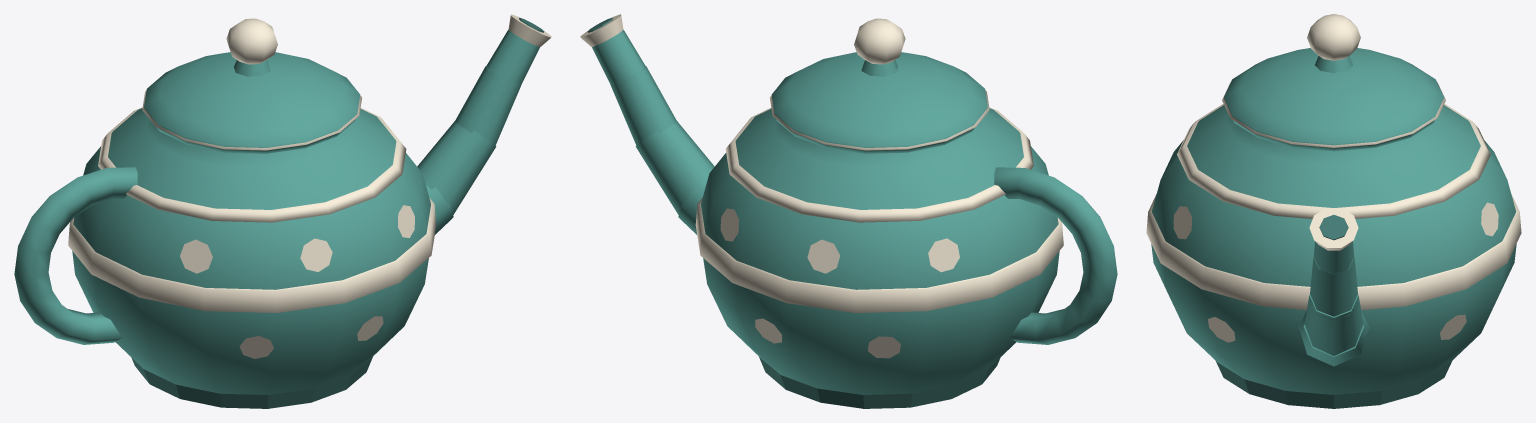
Rendered from tea-pot-v1.glb.
3 renders of one model, left to right at view 1: azimuth 30°, elevation 25°; view 2: azimuth 150°, elevation 25°; view 3: azimuth 270°, elevation 25°, orthographic.
Visible parts, largest first — view 1: body, lid, bellyBand, handle, shoulderBand, spout2, footRing, spout3, knob, spout4, lidRim, dot2_8 (+4 smaller); view 2: body, lid, bellyBand, handle, shoulderBand, spout2, footRing, spout3, knob, spout4, lidRim, dot2_5 (+5 smaller); view 3: body, lid, bellyBand, shoulderBand, footRing, spout2, spout3, knob, spoutLip, spout1, spout4, lidRim (+6 smaller).
Boxes of the visible parts, <box> form: body: <box>72,108,430,394</box>; lid: <box>144,52,360,153</box>; bellyBand: <box>68,198,436,312</box>; handle: <box>14,167,137,344</box>; shoulderBand: <box>98,107,406,222</box>; spout2: <box>417,121,496,214</box>; footRing: <box>131,357,372,408</box>; spout3: <box>455,66,521,145</box>; knob: <box>226,18,277,64</box>; spout4: <box>486,30,539,84</box>; lidRim: <box>142,90,361,150</box>; dot2_8: <box>180,239,212,273</box>; body: <box>701,108,1059,394</box>; lid: <box>771,52,987,153</box>; bellyBand: <box>695,198,1063,312</box>; handle: <box>994,167,1117,344</box>; shoulderBand: <box>725,107,1033,222</box>; spout2: <box>635,121,714,214</box>; footRing: <box>759,357,1000,408</box>; spout3: <box>610,66,676,145</box>; knob: <box>854,18,905,64</box>; spout4: <box>592,30,645,84</box>; lidRim: <box>770,90,989,150</box>; dot2_5: <box>807,239,840,273</box>; body: <box>1151,105,1516,394</box>; lid: <box>1224,48,1443,151</box>; bellyBand: <box>1146,194,1521,309</box>; shoulderBand: <box>1177,104,1490,218</box>; footRing: <box>1215,360,1452,408</box>; spout2: <box>1304,294,1363,355</box>; spout3: <box>1310,257,1357,320</box>; knob: <box>1307,14,1360,60</box>; spoutLip: <box>1309,208,1358,250</box>; spout1: <box>1298,311,1369,366</box>; spout4: <box>1313,241,1354,273</box>; lidRim: <box>1222,82,1445,147</box>.
Bounding box in the file's own units: 0.2654 × 0.1608 × 0.16.
